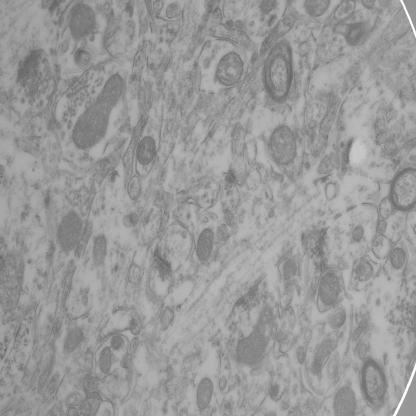mitochondria: (71, 74, 125, 152), (235, 303, 278, 371), (267, 121, 299, 168), (66, 1, 97, 42), (214, 51, 246, 90), (55, 211, 83, 255), (196, 225, 216, 266), (62, 324, 86, 358), (318, 271, 340, 308), (334, 384, 359, 416), (195, 375, 215, 414), (136, 134, 157, 167), (90, 232, 108, 268), (354, 256, 374, 284), (390, 243, 408, 274), (98, 345, 112, 377), (349, 223, 366, 244), (110, 332, 123, 350)
